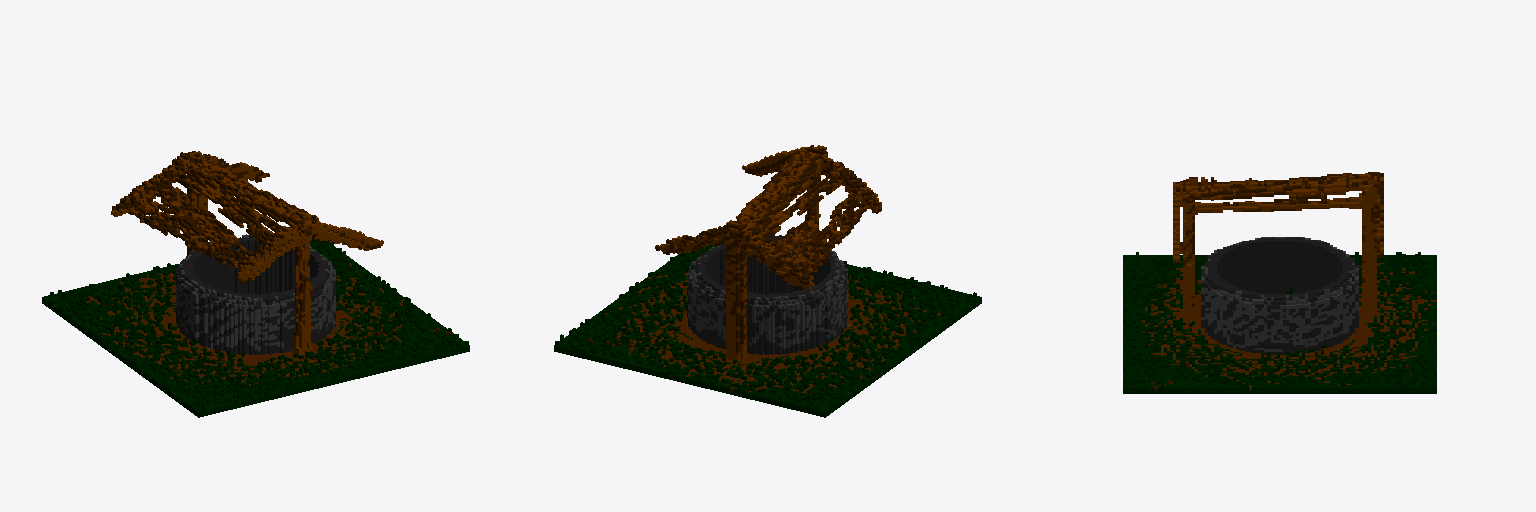
The picture shows the model from 3 angles: view 1: azimuth 30°, elevation 25°; view 2: azimuth 150°, elevation 25°; view 3: azimuth 270°, elevation 25°; orthographic projection.
Visible parts, largest first — view 1: object 1; view 2: object 1; view 3: object 1.
Boxes of the visible parts, <box> form: object 1: <box>42,151,469,417</box>; object 1: <box>554,145,981,417</box>; object 1: <box>1123,172,1436,393</box>.
Size of the model in its own units: 10 by 5 by 10.
1 materials, 1 textured.